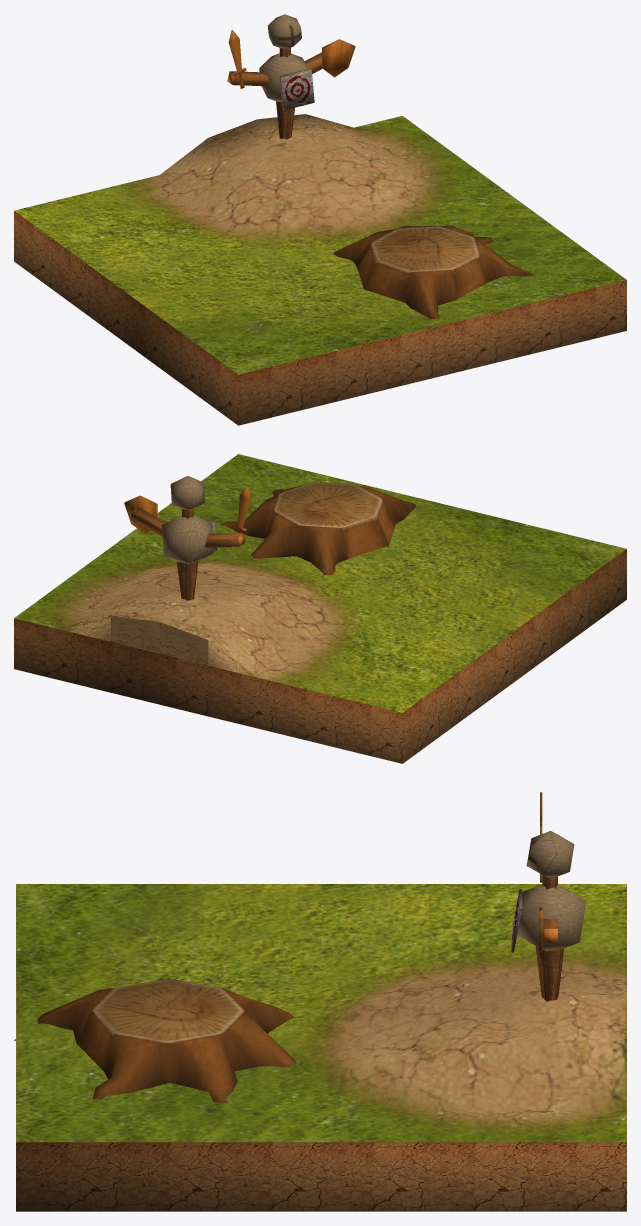
Rendered from training_map.obj.
3 renders of one model, top to bottom at view 1: azimuth 30°, elevation 25°; view 2: azimuth 150°, elevation 25°; view 3: azimuth 270°, elevation 25°, orthographic. The views are drawn at different scales.
Visible parts, largest first — view 1: Cube.001; view 2: Cube.001; view 3: Cube.001.
Part boxes in pixels (x1,y1,x2,y2): Cube.001: (14, 14, 626, 425); Cube.001: (14, 454, 626, 763); Cube.001: (14, 792, 626, 1211).
Bounding box in the file's own units: 16 × 8.23 × 16.05.
